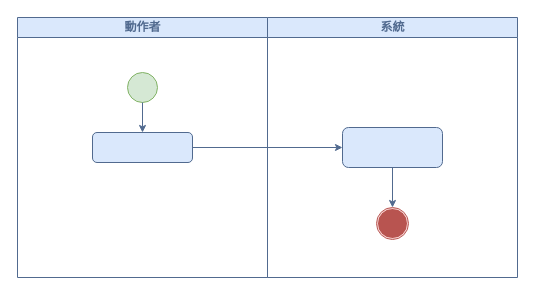
Image size: 535x295. Some labels were removed from this diagram. Here are the shapes that lost their labels. From the top down, the centre of each, then its label:
pixel 142 147: 點選查看評論
pixel 392 147: 顯示該商品評論
